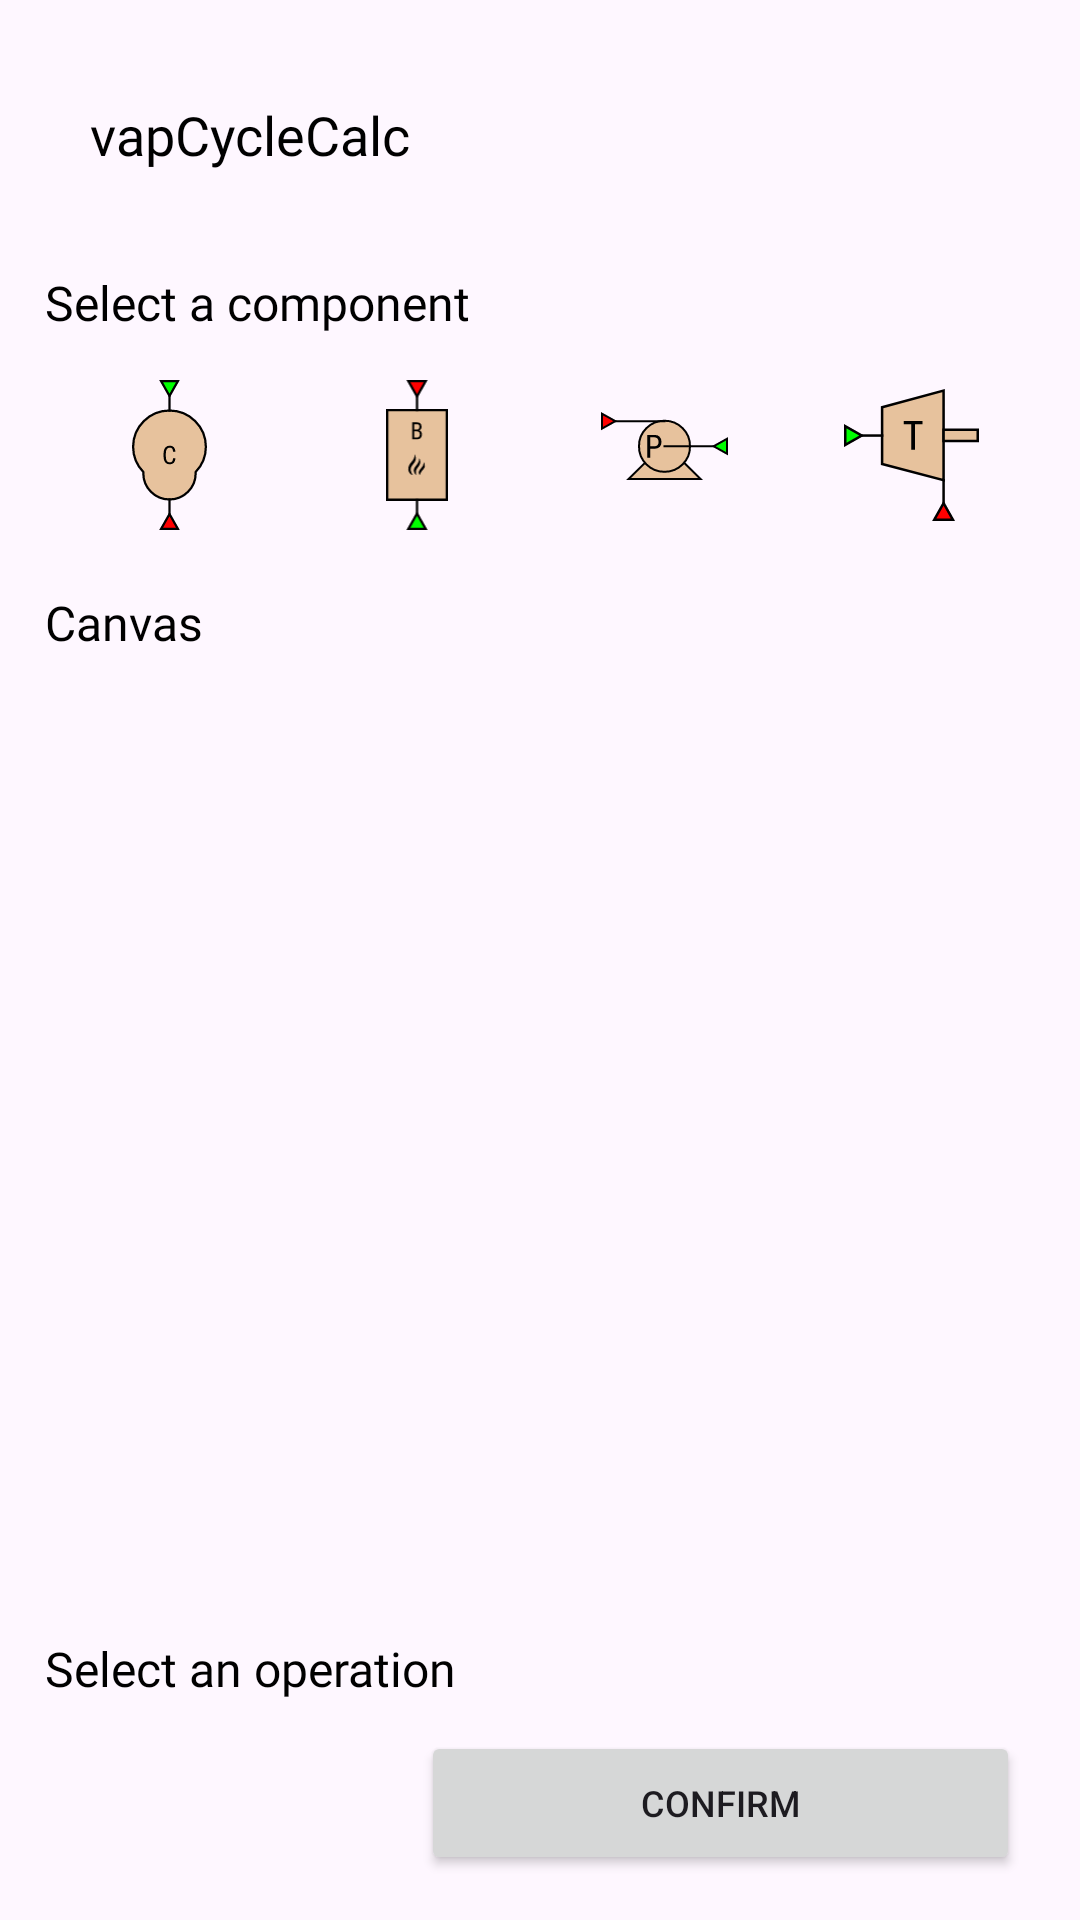

Locate icon controls on the screen. Image size 1080px x 1920px, boxes as (x1, y1, x2, y2).
Boiler: (386, 380, 448, 530)
Condenser: (132, 380, 207, 530)
Pump: (601, 412, 728, 480)
Turbine: (844, 389, 979, 521)
